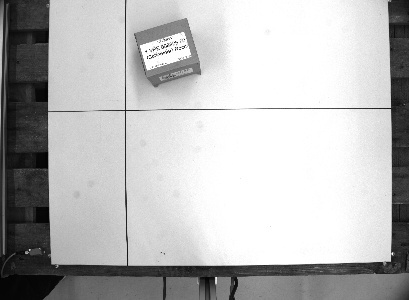b5: (131, 16, 203, 88)
